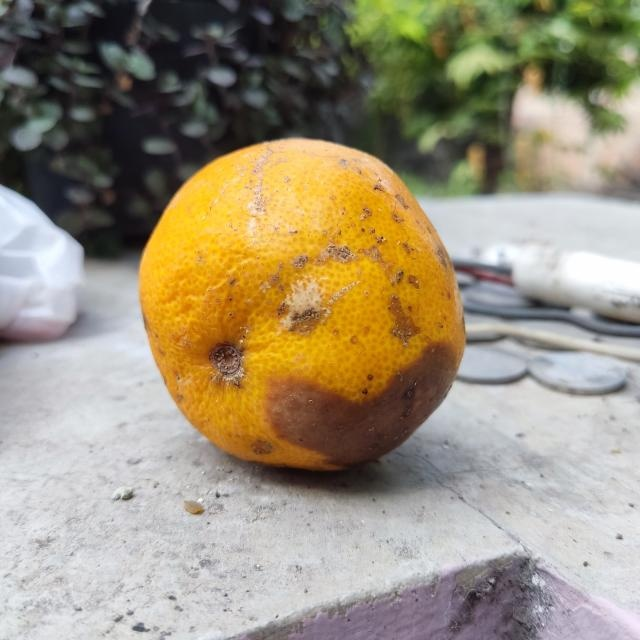agrume: (135, 134, 468, 477)
